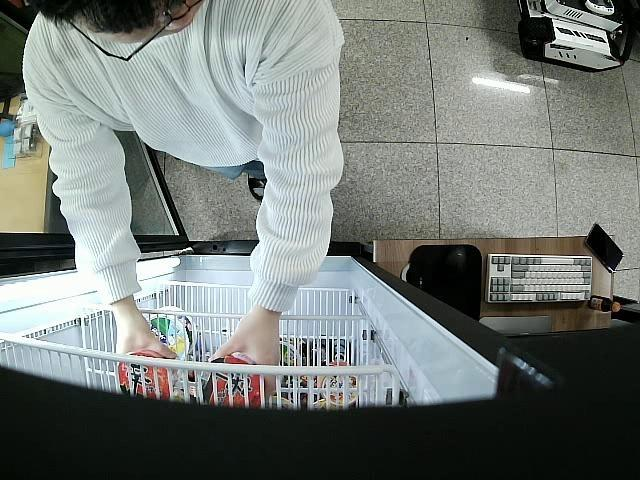02_shinRamen_S: (201, 354, 266, 408), (118, 352, 176, 402)
